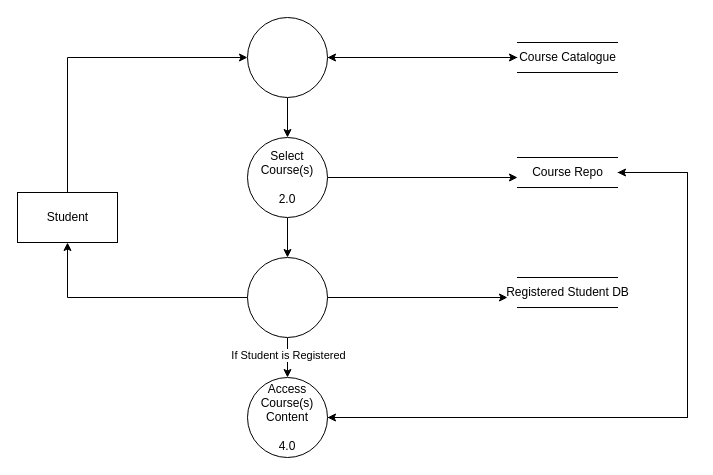
This 713x475 diagram has some shape labels left out. The shapes that lost their labels are listed below. From the top down, each one's box as (x1, y1, x2, y2) in pixels, then its label:
(246, 16, 328, 98): Browse Course Catalogue 1.0
(246, 256, 328, 338): Register 3.0
